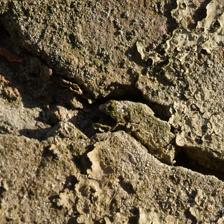Crack: (66, 15, 167, 145), (97, 6, 224, 82)
